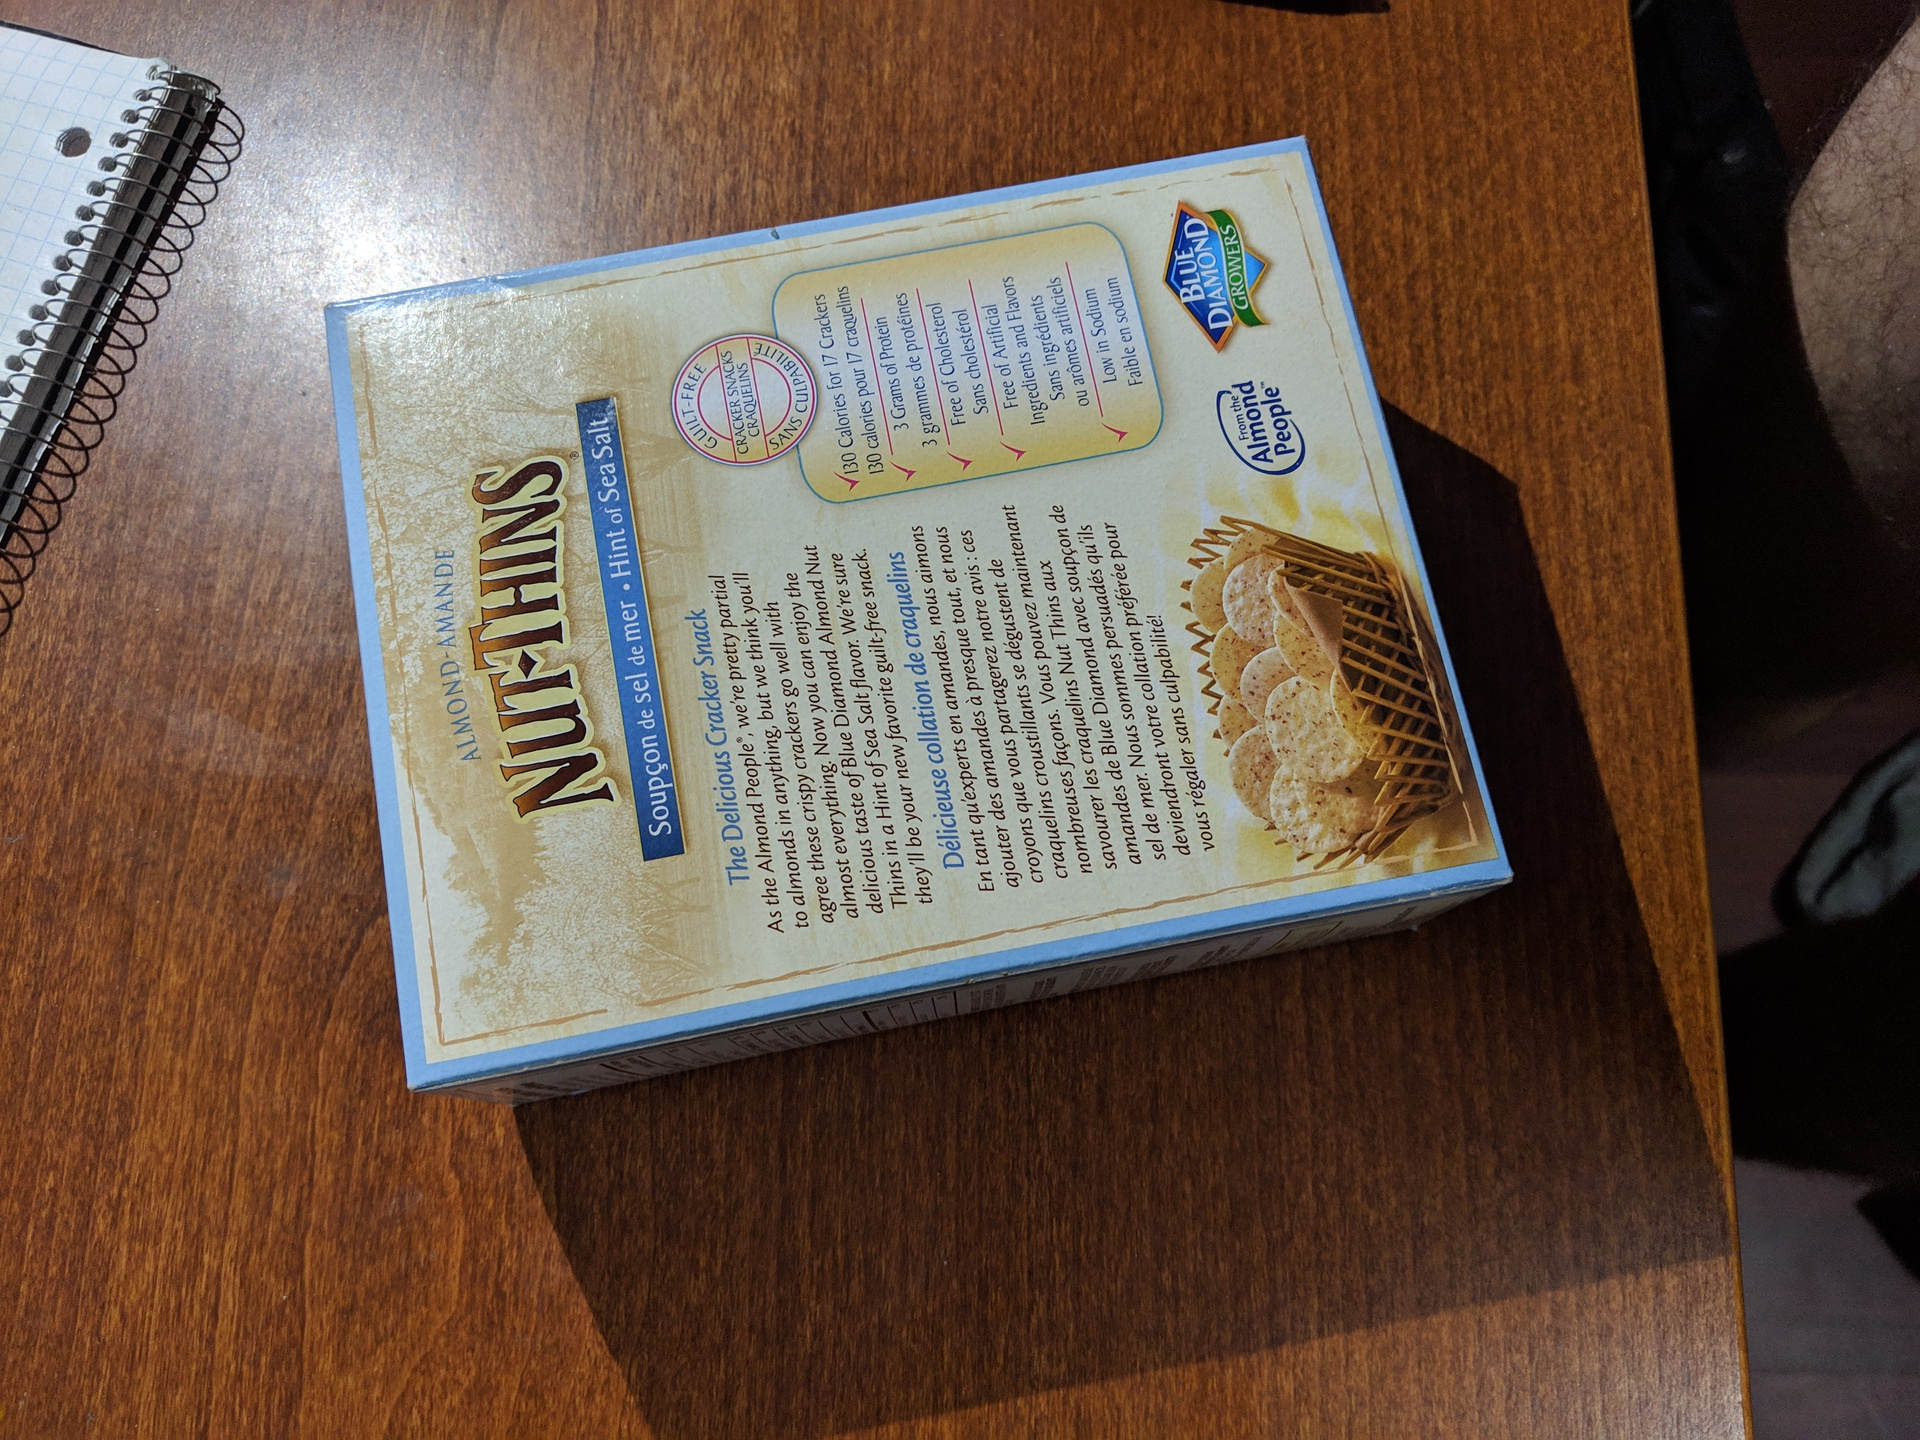blue_diamond_nut_thins_almond_seasalt: (360, 175, 1407, 1033)
